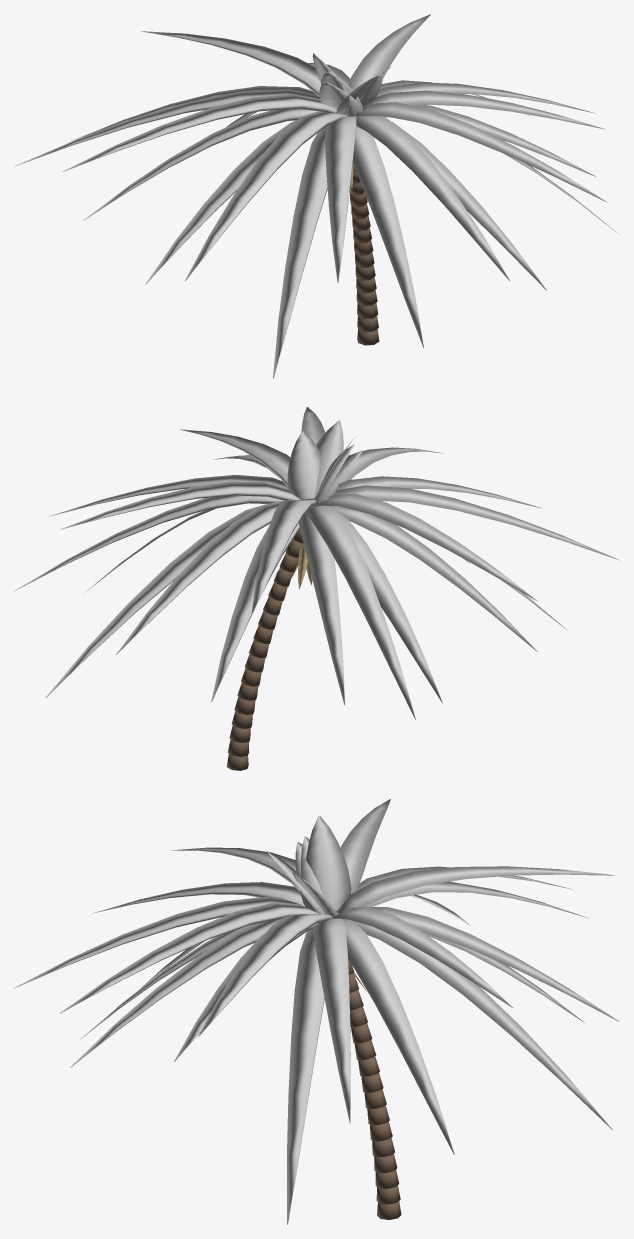
File: palm_b.glb
3 renders of one model, top to bottom at view 1: azimuth 30°, elevation 25°; view 2: azimuth 150°, elevation 25°; view 3: azimuth 270°, elevation 25°, orthographic. The views are drawn at different scales.
Parts seen in each view (by area): view 1: palm_b; view 2: palm_b; view 3: palm_b.
Part boxes in pixels (left/top/right/bottom): palm_b: left=14, top=14, right=616, bottom=378; palm_b: left=14, top=407, right=619, bottom=770; palm_b: left=14, top=799, right=619, bottom=1224.
Size of the model in its own units: 13.33 by 8.24 by 12.77.
